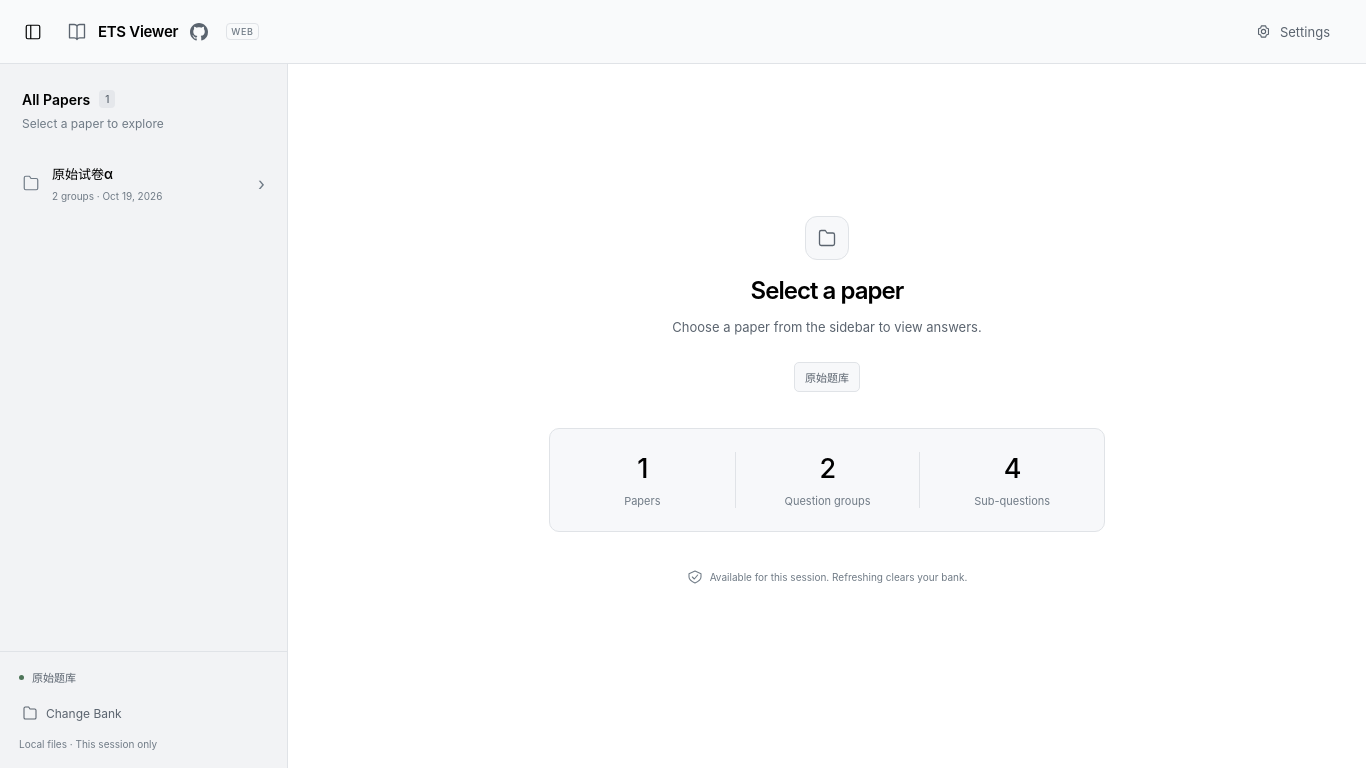
Test: switches an open Settings menu live while keeping theme, statistics and imported paper names
Expected: the element with class "stats" reads "1 Papers 2 Question groups 4 Sub-questions", [549,428,1105,532]
Expected: the heading "Select a paper" is shown, [751,276,904,305]
Click the button "Settings" at {"x": 1292, "y": 32}, box [1243,14,1342,50]
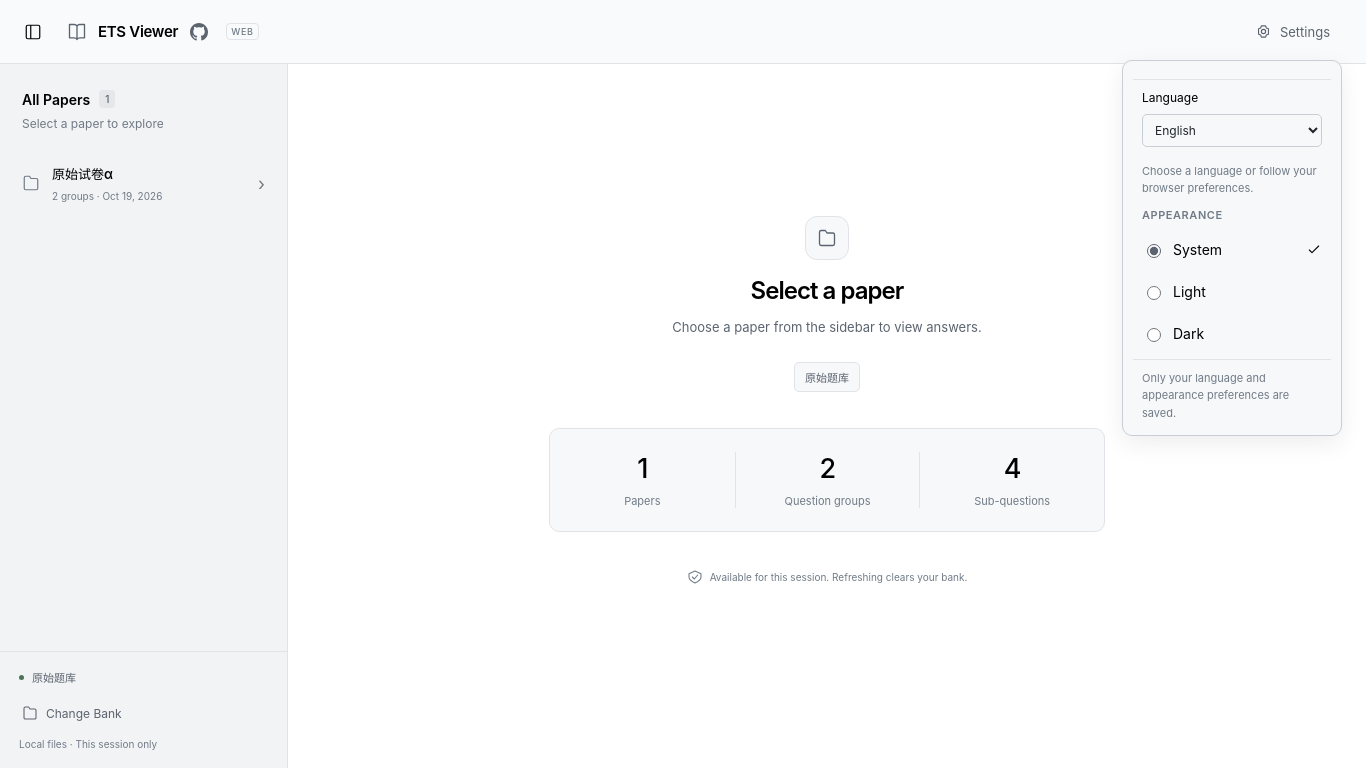
Click the radio button labelled "Dark" at {"x": 1154, "y": 335}, box [1147,328,1161,342]
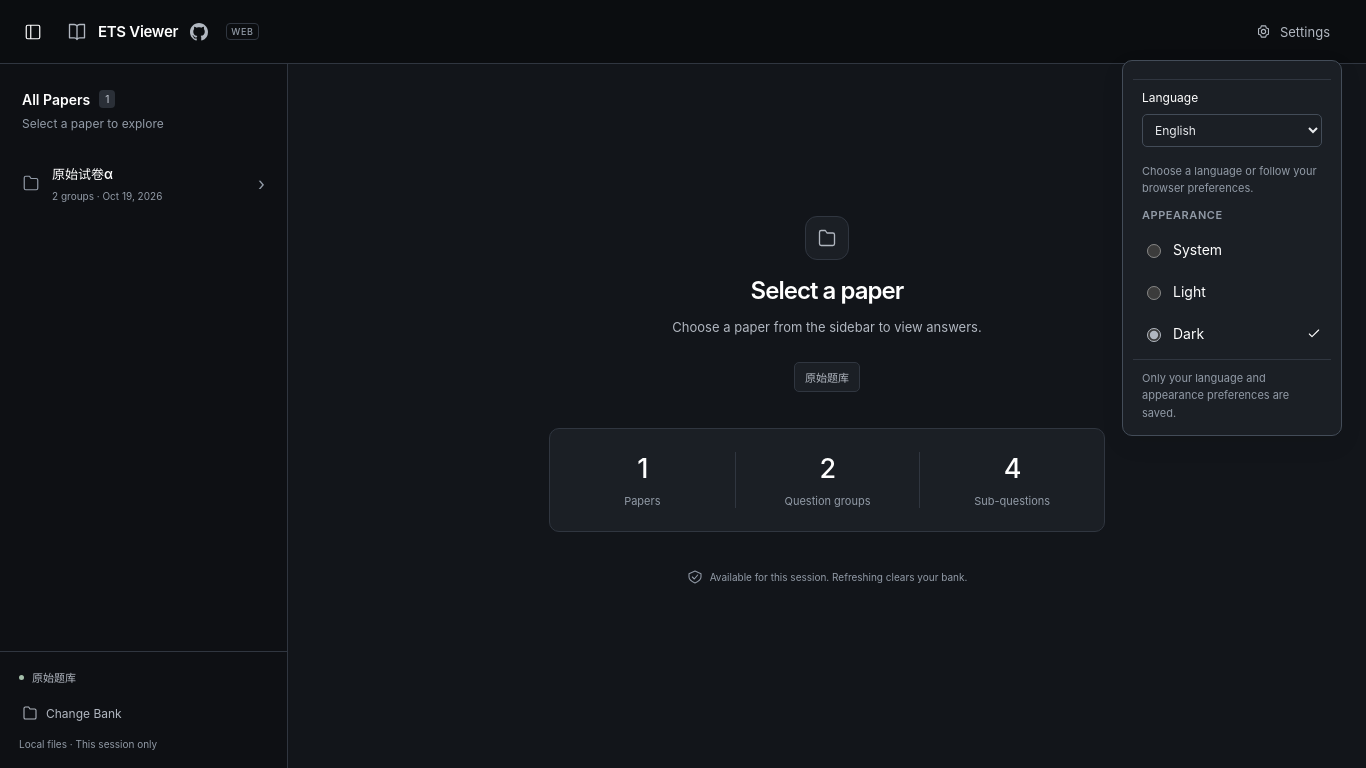
Select "简体中文" in the dropdown labelled "Language" at {"x": 1232, "y": 130}, box [1142,114,1322,146]
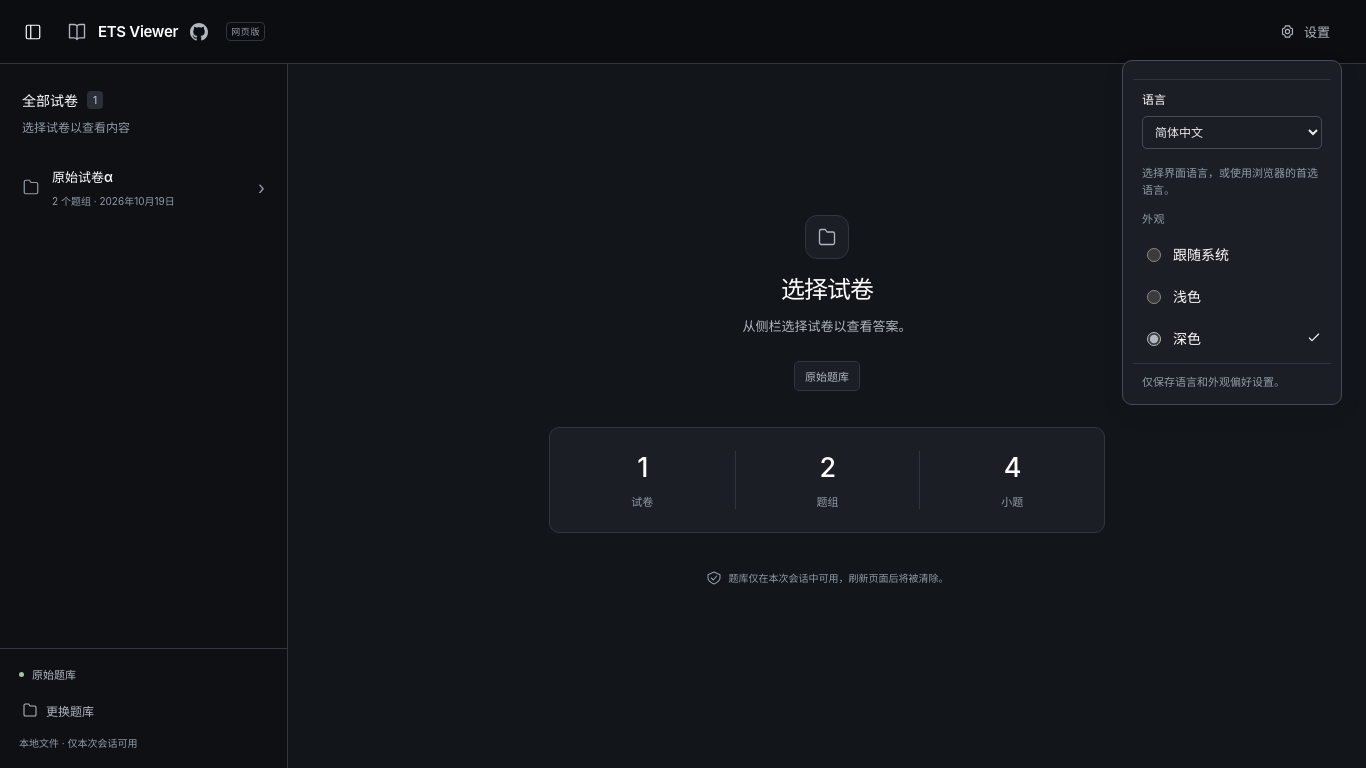
Now the radio button labelled "深色" is checked, box [1147,332,1161,346]
Now the button "设置" is expanded, box [1267,14,1342,50]
Now the heading "选择试卷" is shown, box [781,275,873,304]
